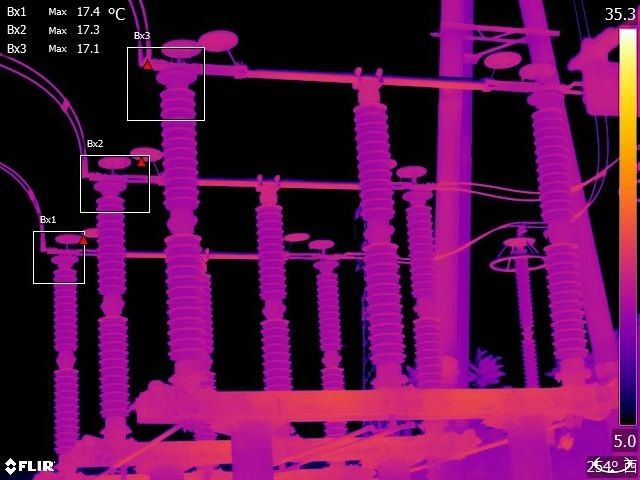lightning arrester: (488, 232, 553, 394)
post insulator: (351, 89, 409, 382), (530, 97, 588, 383), (159, 79, 212, 373), (92, 179, 136, 430), (403, 189, 444, 388), (254, 197, 296, 391), (47, 252, 85, 454), (313, 259, 348, 439)
switch: (143, 26, 581, 100), (91, 139, 434, 200), (39, 224, 345, 272)
